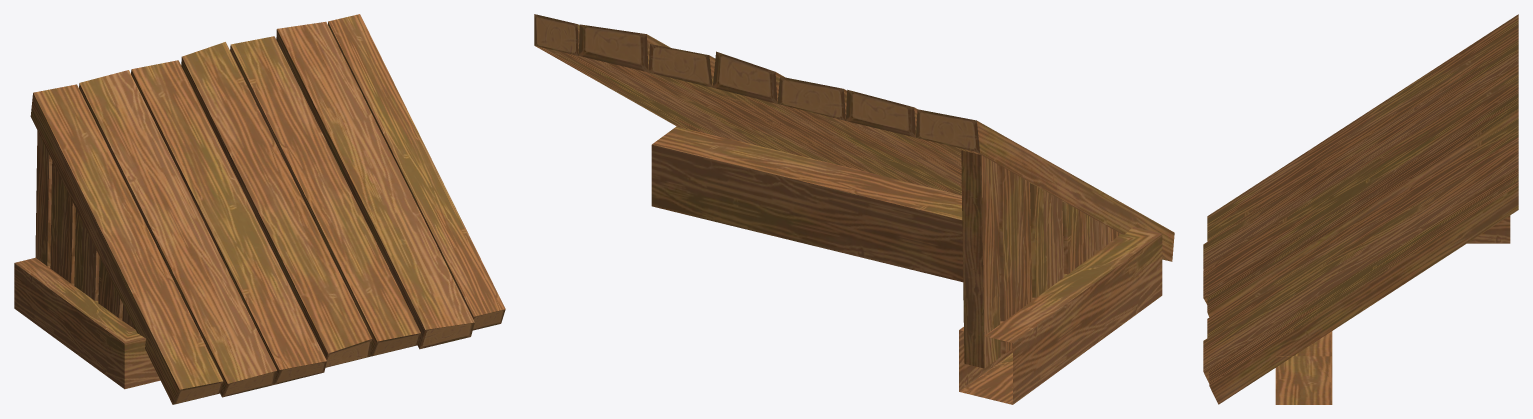
Rendered from Roof_Wooden_2x1_L.glb.
The picture shows the model from 3 angles, left to right: view 1: azimuth 30°, elevation 25°; view 2: azimuth 150°, elevation 25°; view 3: azimuth 270°, elevation 25°; orthographic projection. The views are drawn at different scales.
Parts seen in each view (by area): view 1: Roof_Wooden_2x1_L; view 2: Roof_Wooden_2x1_L; view 3: Roof_Wooden_2x1_L.
Boxes of the visible parts, x1=… form: Roof_Wooden_2x1_L: x1=14, y1=14, x2=505, y2=404; Roof_Wooden_2x1_L: x1=534, y1=14, x2=1174, y2=404; Roof_Wooden_2x1_L: x1=1203, y1=14, x2=1518, y2=404.
Size of the model in its own units: 2.13 by 1.25 by 1.56.
Materials: 1 (1 with a texture image).
